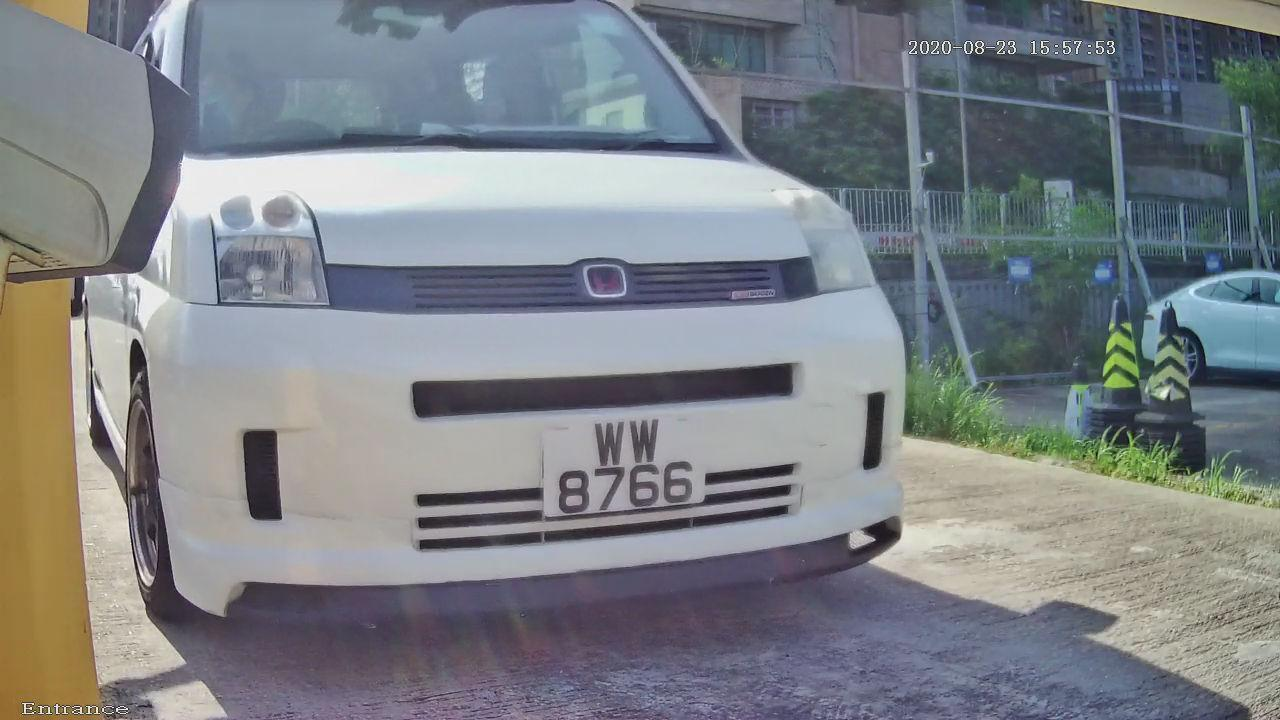Car: (23, 1, 1000, 685)
License Plate: (515, 406, 732, 541)
